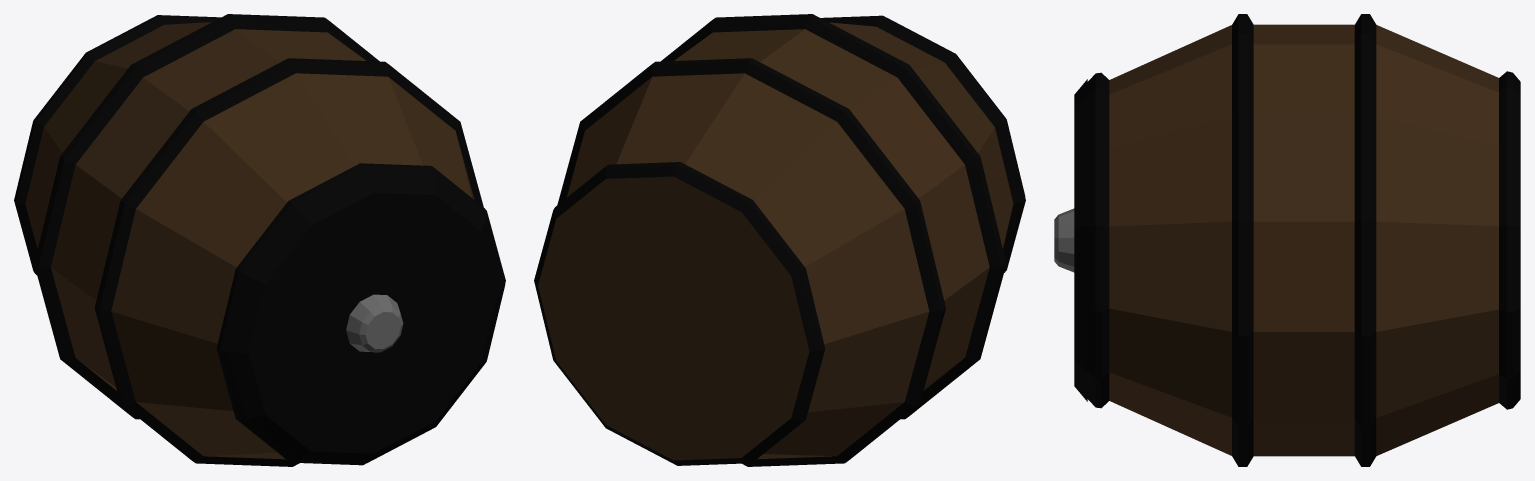
File: barril.fbx
3 views of the same model, side by side, from view 1: azimuth 30°, elevation 25°; view 2: azimuth 150°, elevation 25°; view 3: azimuth 270°, elevation 25° (orthographic).
Parts seen in each view (by area): view 1: Cylinder.003, Cylinder.008; view 2: Cylinder.003; view 3: Cylinder.003, Cylinder.008.
Boxes of the visible parts, x1,y1,x2,y2 form: Cylinder.003: (14,14,505,466); Cylinder.008: (228,173,505,463); Cylinder.003: (534,14,1025,466); Cylinder.003: (1087,14,1520,466); Cylinder.008: (1054,79,1087,401).
Size of the model in its own units: 105 by 105 by 108.
